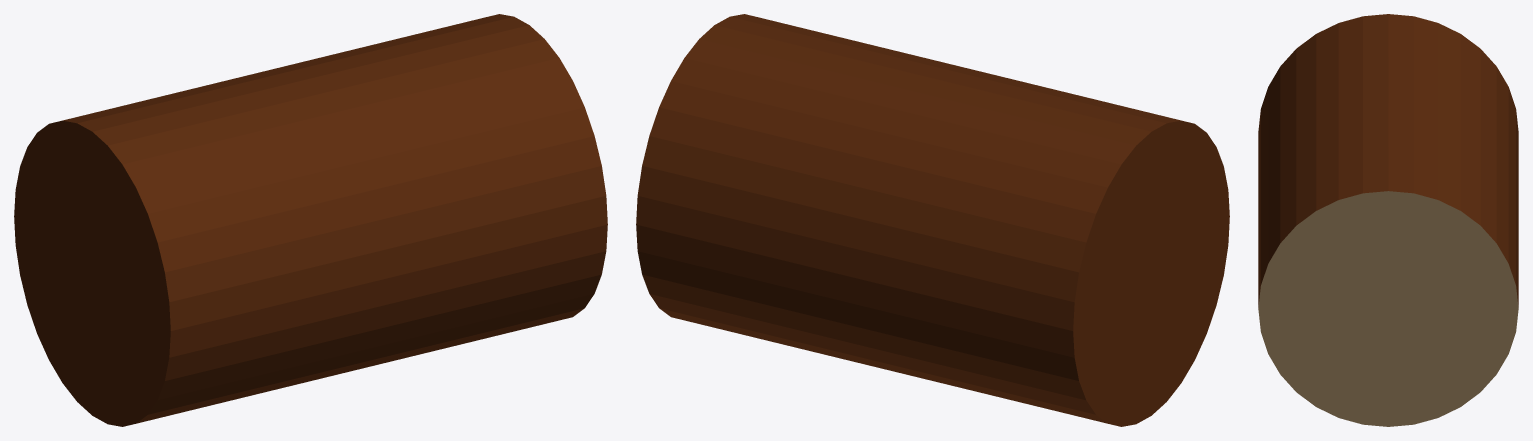
Rendered from Wood.fbx.
3 views of the same model, side by side, from view 1: azimuth 30°, elevation 25°; view 2: azimuth 150°, elevation 25°; view 3: azimuth 270°, elevation 25° (orthographic). The views are drawn at different scales.
Visible parts, largest first — view 1: Cylinder.002, Cylinder.003; view 2: Cylinder.002, Cylinder.003; view 3: Cylinder.001, Cylinder.002.
Boxes of the visible parts, box(x1,y1,x2,y2) form: Cylinder.002: box(63, 14, 607, 423); Cylinder.003: box(14, 120, 170, 426); Cylinder.002: box(636, 14, 1180, 423); Cylinder.003: box(1073, 120, 1229, 426); Cylinder.001: box(1258, 191, 1518, 426); Cylinder.002: box(1258, 14, 1518, 307).
Bounding box in the file's own units: 322 × 200 × 200.
